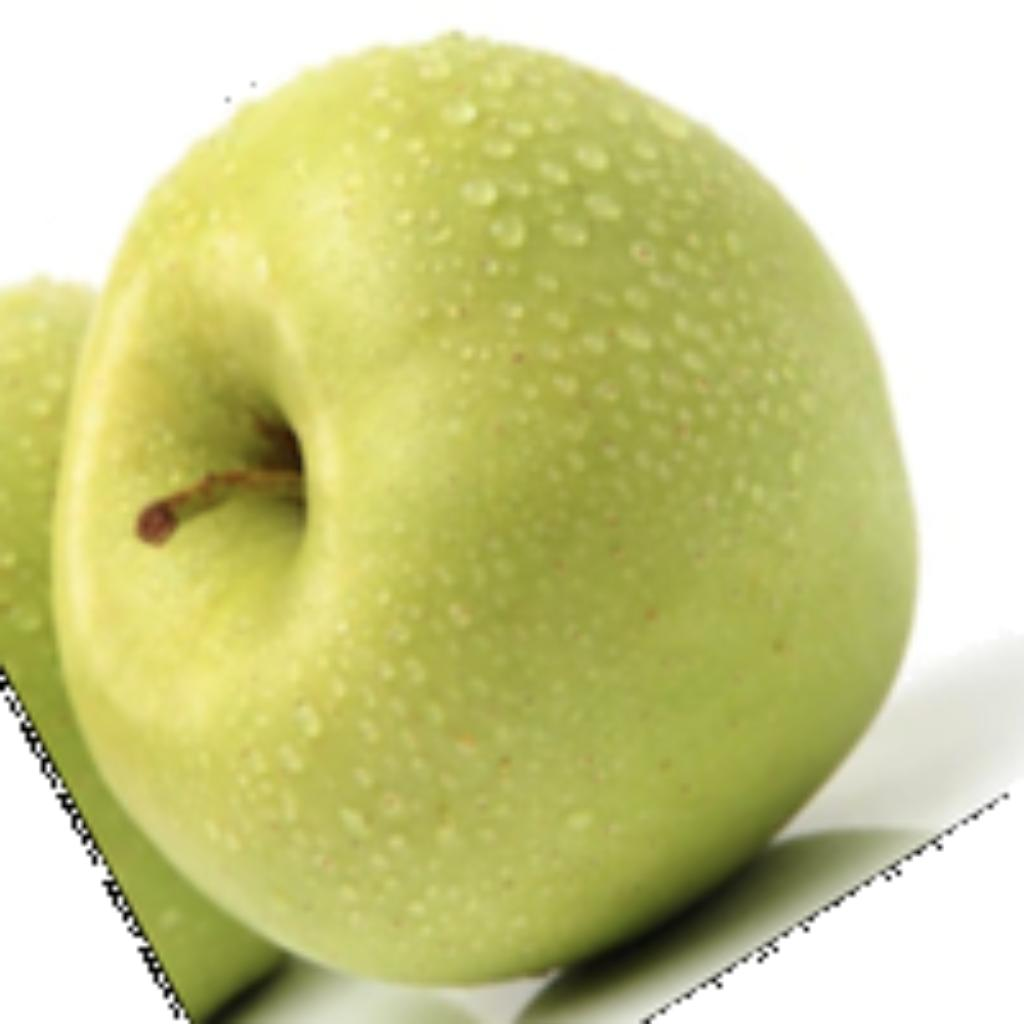apple: (0, 20, 1019, 1019)
